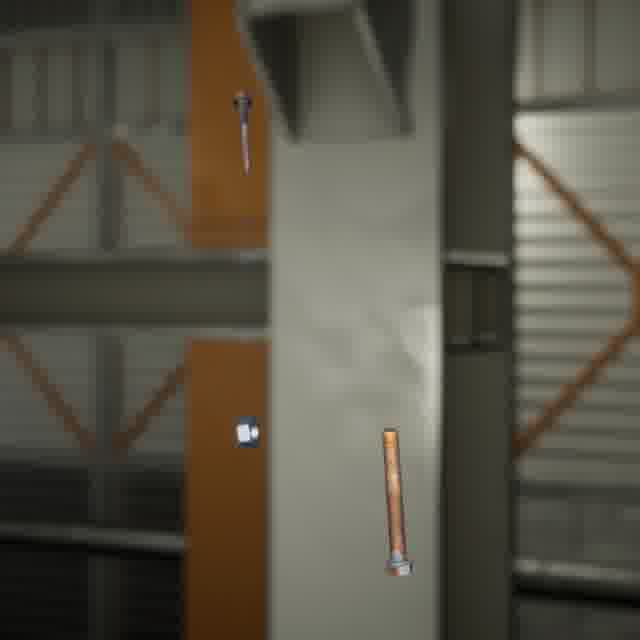bolt: (377, 422, 417, 580), (228, 87, 257, 179)
nut: (232, 411, 264, 452)
